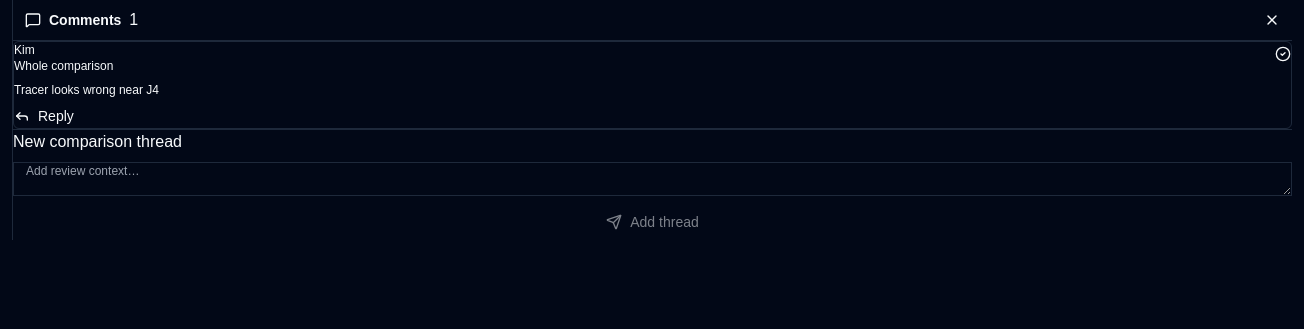
Test case: ComparisonDiscussionRail addReply › still delivers the reply on the happy path
Click the button "Reply": (44, 116) [14, 106, 74, 126]
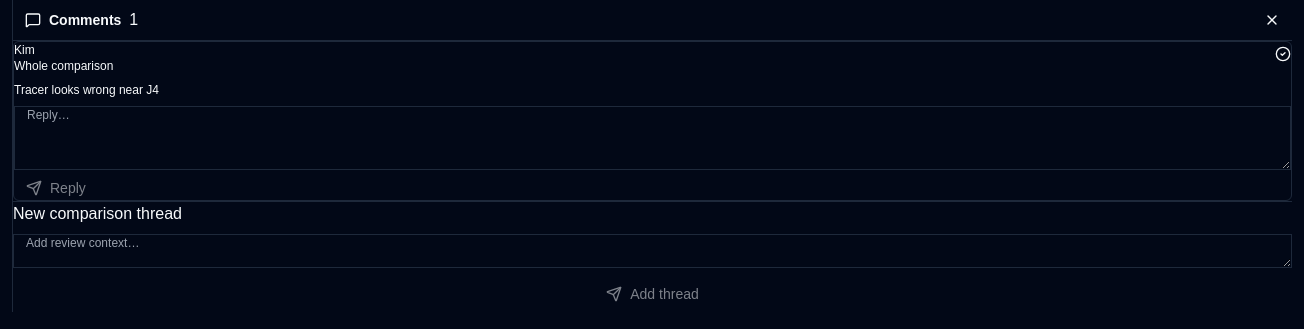
In the text box with placeholder "Reply…": (652, 138) [14, 106, 1291, 170], type "Looks good to me"
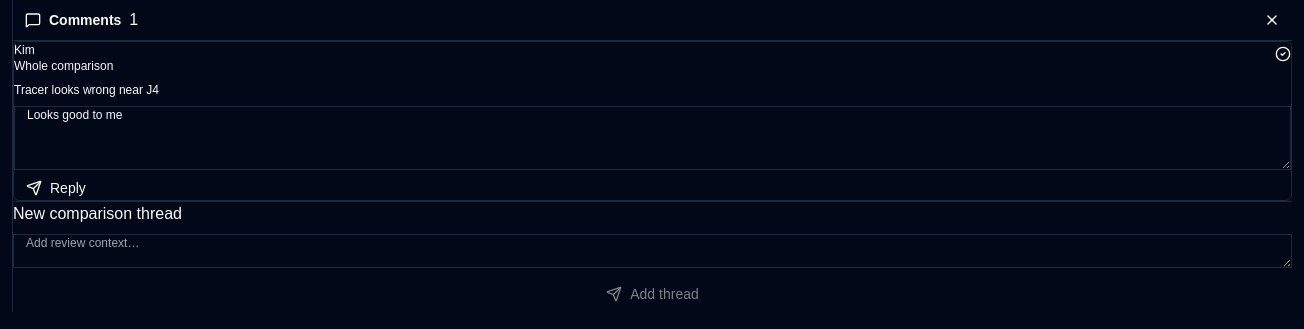
Click the button "Reply": (56, 188) [14, 178, 98, 198]
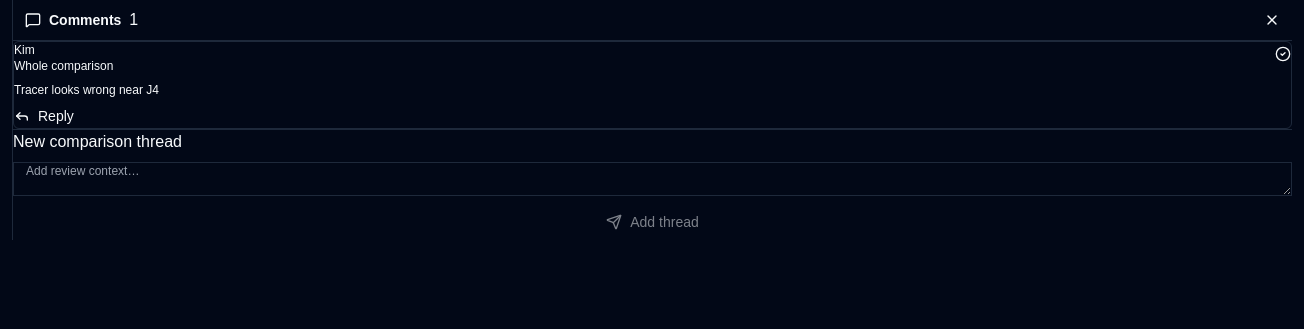
Check: the text box with placeholder "Reply…" is gone
